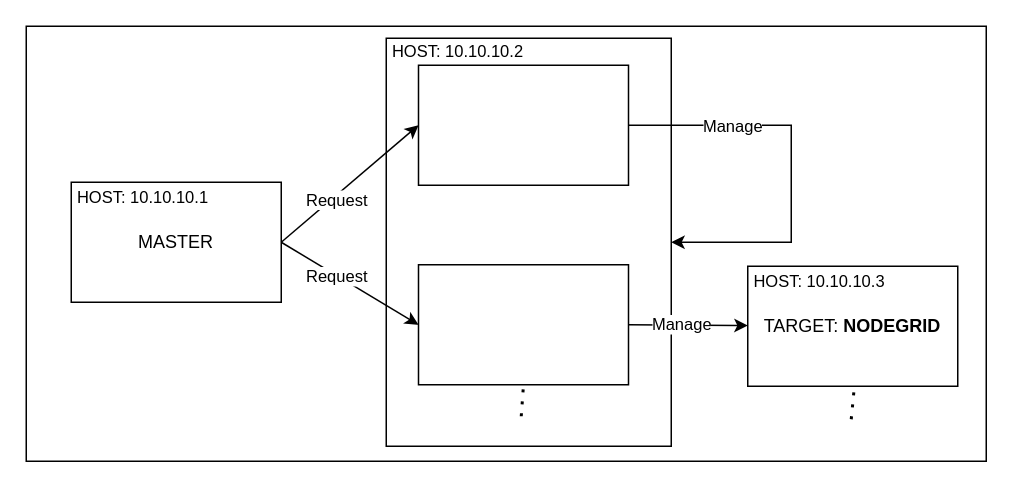
This 1013x488 diagram has some shape labels left out. Each missing label, with the centre of its shape:
"MINION" goes at (522,124).
"PROXY-MINION" goes at (522,324).
